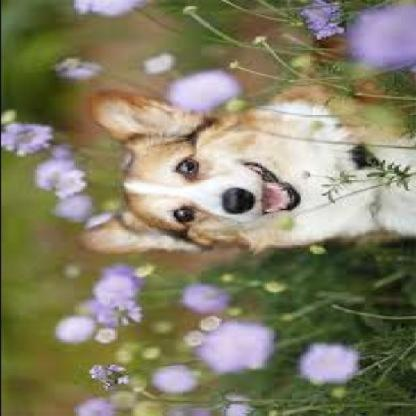dog: (84, 89, 416, 262)
